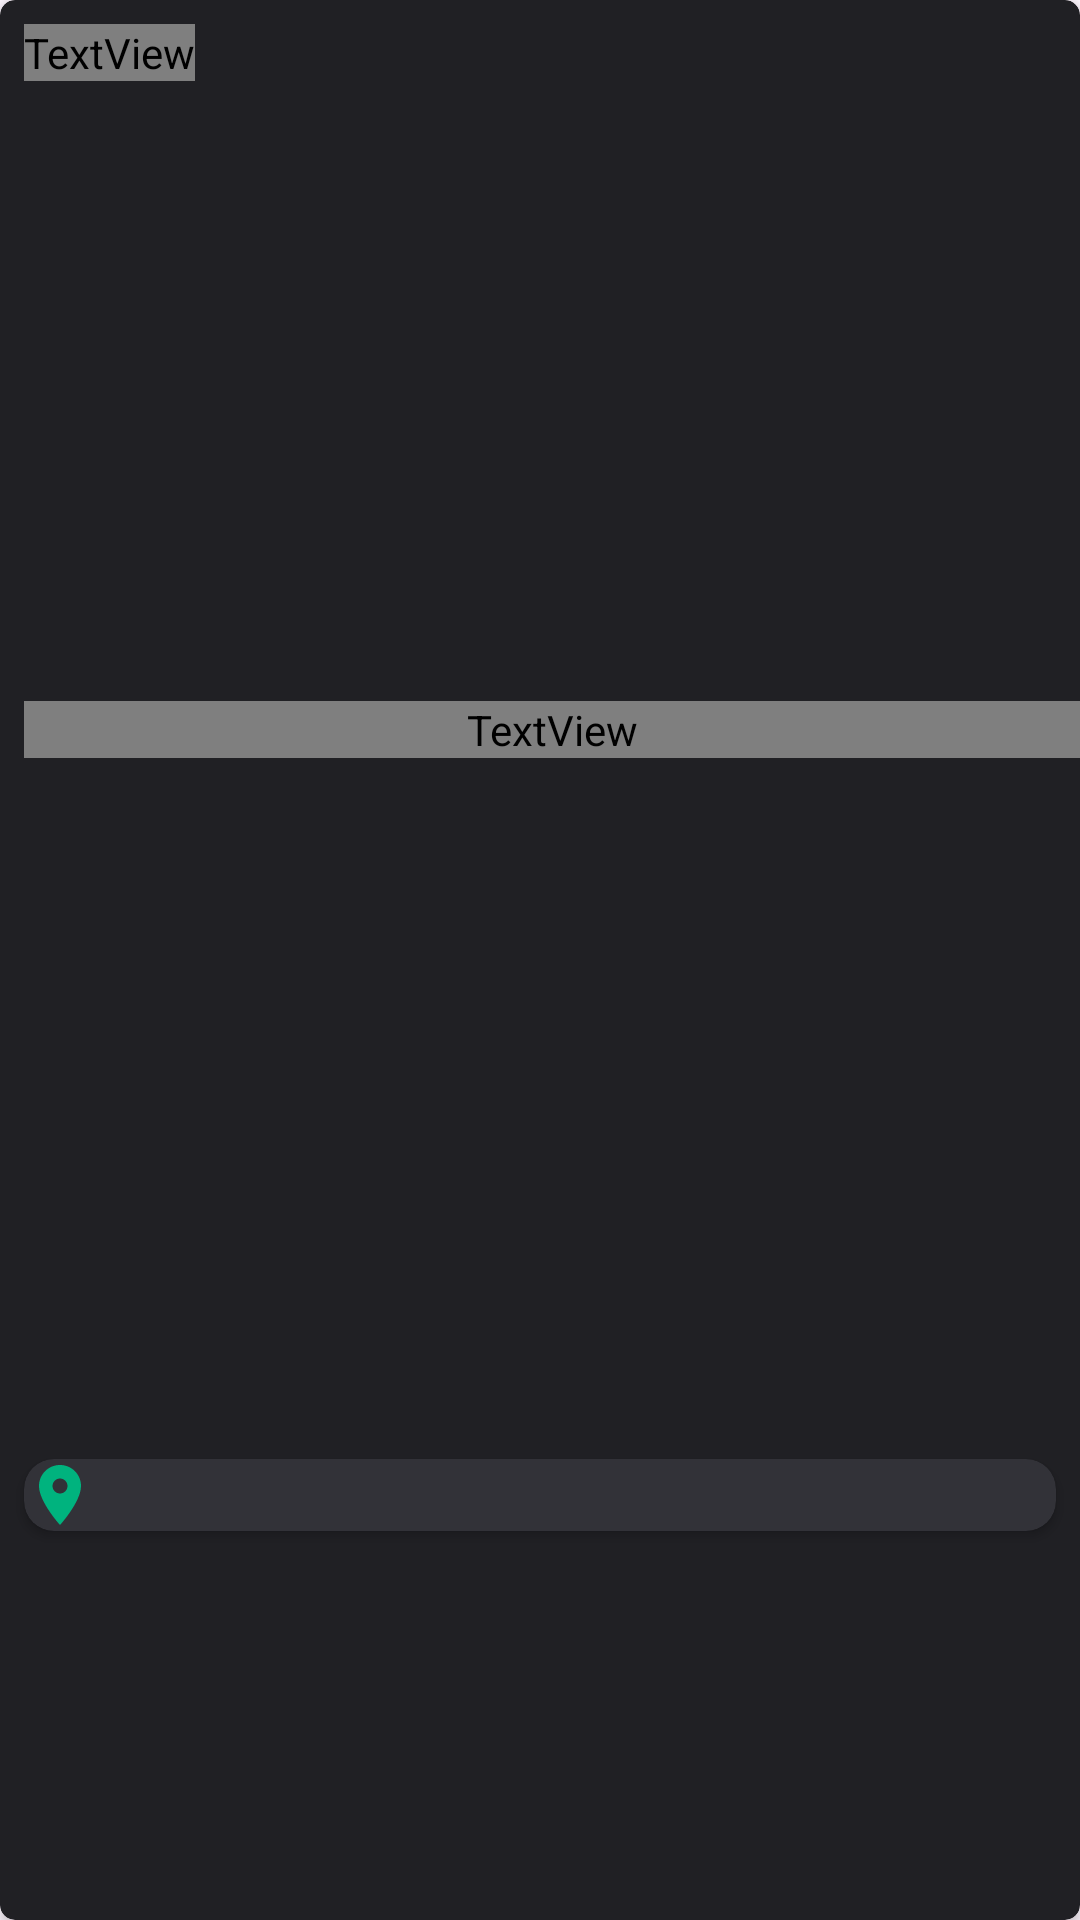

Where to tap for icons on this 1080 x 1920 app screen, as [x,y]:
location on: [60,1495]
